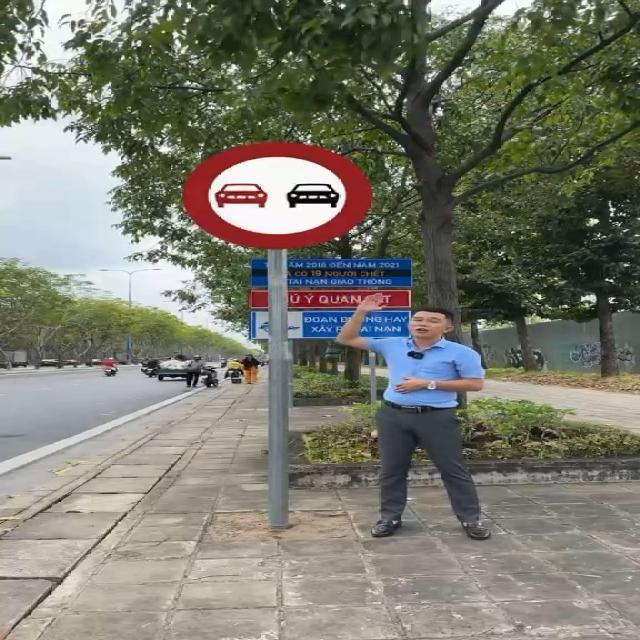125-cam-vuot: (181, 138, 375, 248)
